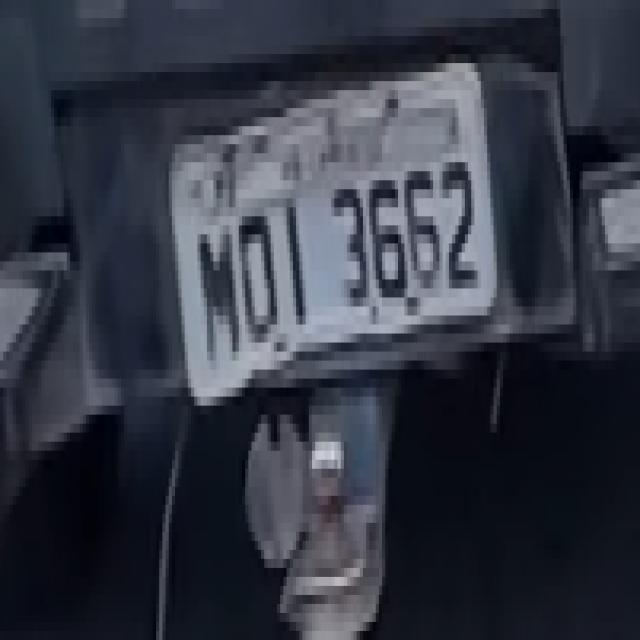Placa_mercosul_carro: (164, 57, 498, 408)
